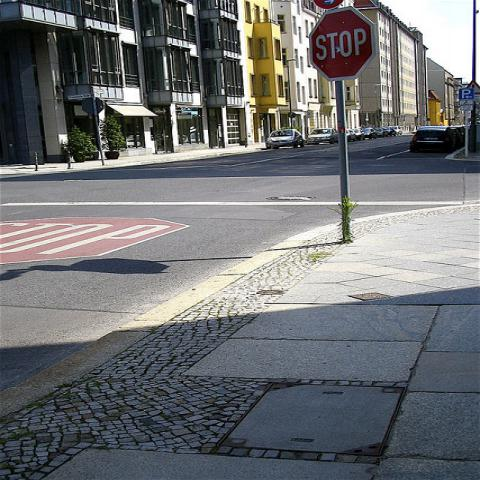car: (409, 125, 458, 153), (266, 129, 306, 149), (307, 128, 339, 145), (449, 128, 463, 144), (361, 128, 378, 140), (373, 128, 394, 137), (350, 128, 364, 140), (346, 129, 358, 141), (389, 126, 403, 135)
